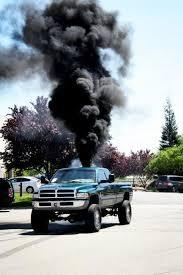smoke: (54, 4, 116, 155)
